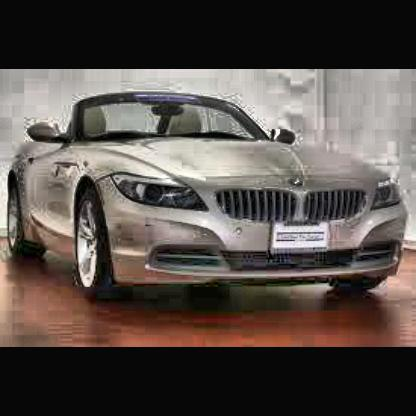BMW Z4 Convertible 2012: (10, 92, 410, 311)
